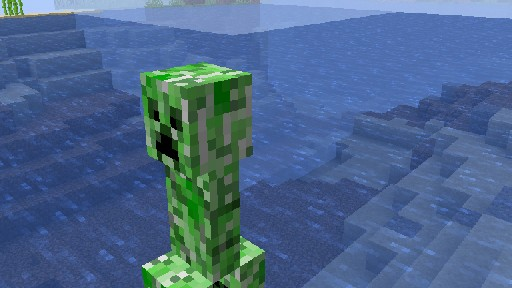creeper: (139, 61, 265, 288)
